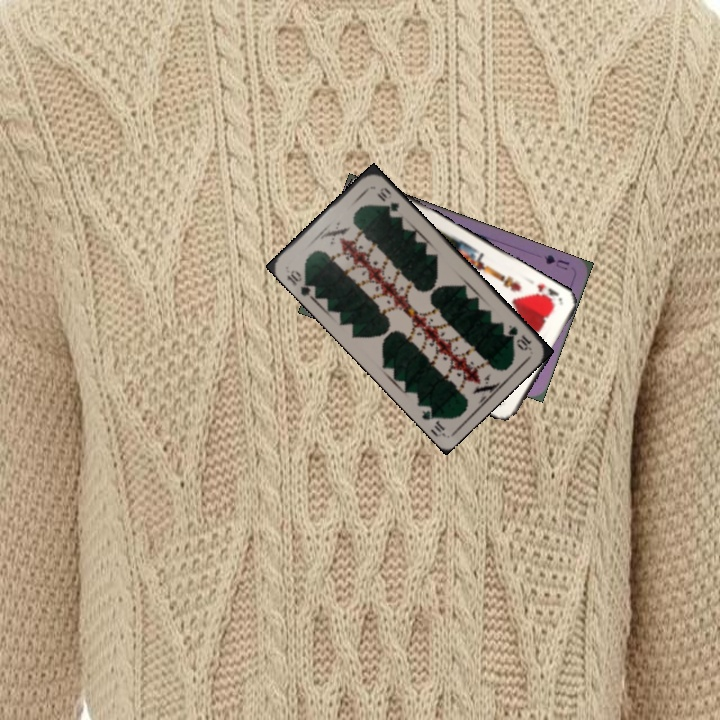G10: (282, 266, 319, 300), (504, 321, 534, 353)
GU: (540, 251, 572, 273)
HK: (533, 280, 565, 307)
